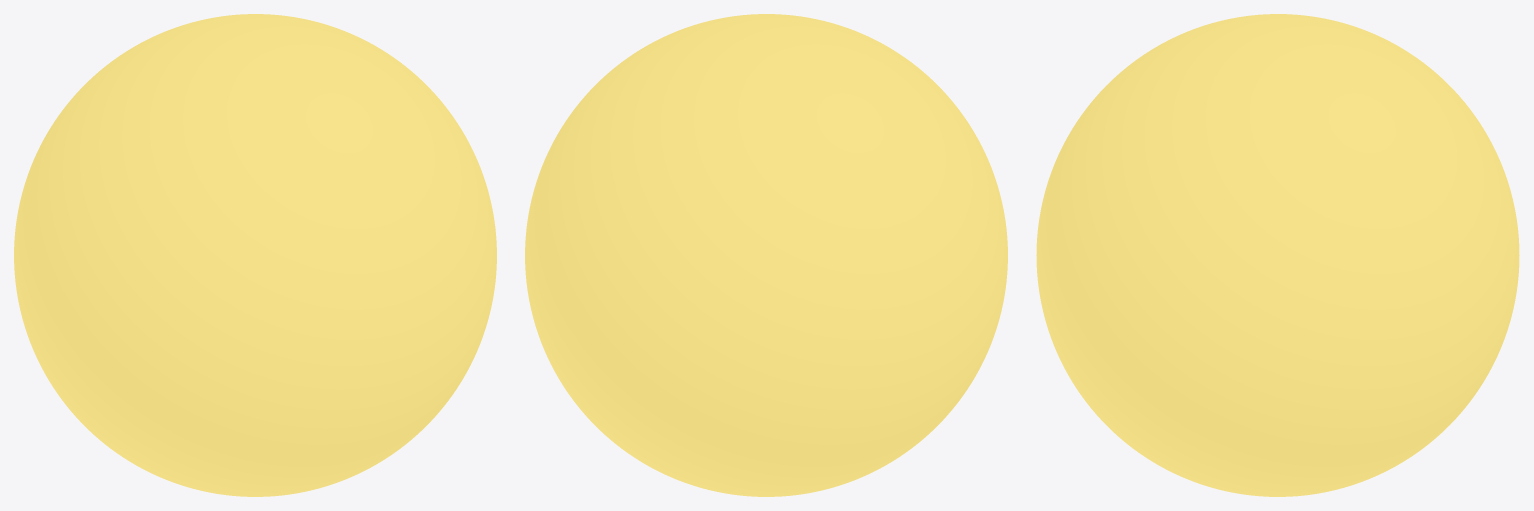
The model's file is sun.glb.
The picture shows the model from 3 angles, left to right: view 1: azimuth 30°, elevation 25°; view 2: azimuth 150°, elevation 25°; view 3: azimuth 270°, elevation 25°; orthographic projection.
Visible parts, largest first — view 1: Sun; view 2: Sun; view 3: Sun.
Boxes of the visible parts, x1,y1,x2,y2 form: Sun: [14, 14, 496, 496]; Sun: [525, 14, 1007, 496]; Sun: [1036, 14, 1519, 496].
Bounding box in the file's own units: 61 × 61 × 61.
